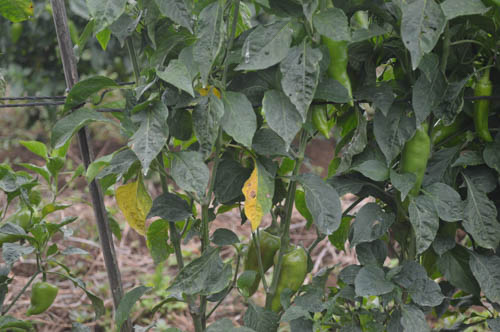ChiliPepper: (266, 247, 314, 315), (240, 229, 278, 293), (324, 37, 354, 104), (401, 131, 428, 195), (26, 283, 59, 321), (476, 82, 492, 141)
